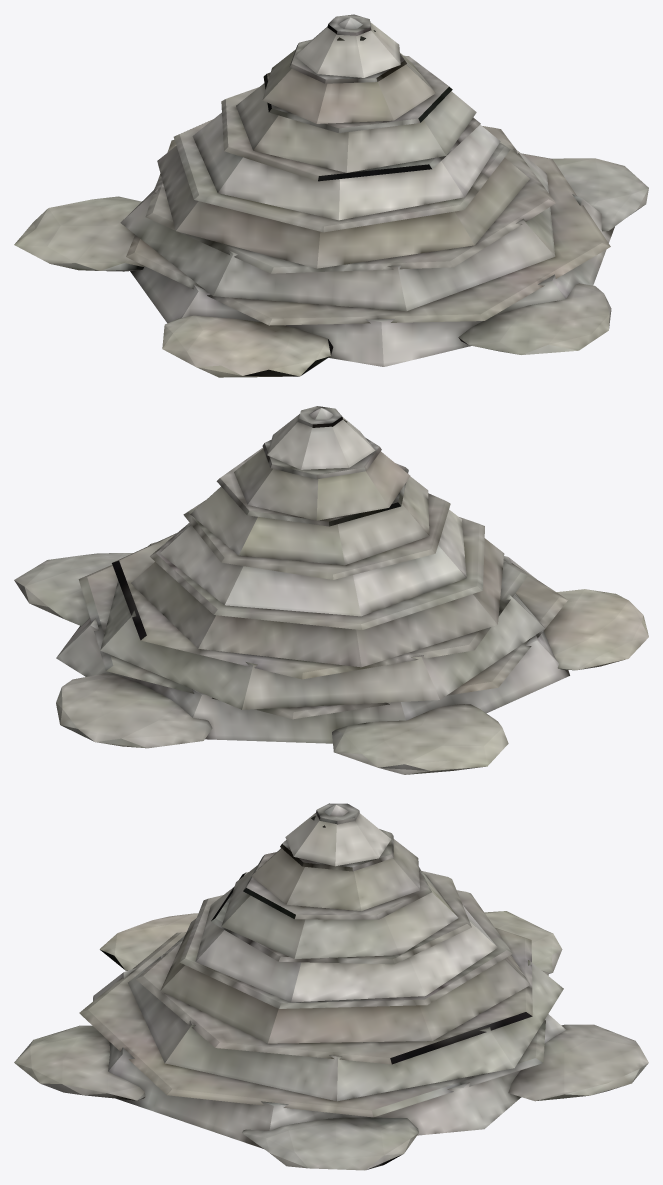
File: kit_spire.glb
The picture shows the model from 3 angles, top to bottom: view 1: azimuth 30°, elevation 25°; view 2: azimuth 150°, elevation 25°; view 3: azimuth 270°, elevation 25°; orthographic projection. The views are drawn at different scales.
Visible parts, largest first — view 1: cyl; view 2: cyl; view 3: cyl.
Part boxes in pixels (x1=…): cyl: x1=14, y1=14, x2=648, y2=377; cyl: x1=14, y1=406, x2=648, y2=774; cyl: x1=14, y1=803, x2=648, y2=1170.
Size of the model in its own units: 2.43 by 1.03 by 2.51.
Materials: 1 (1 with a texture image).
